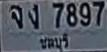7: (92, 0, 104, 25), (52, 2, 63, 27)
8: (66, 2, 76, 26)
9: (79, 1, 90, 25)
A07: (28, 3, 38, 28)
A08: (9, 4, 22, 28)
CBI: (37, 33, 71, 52)
